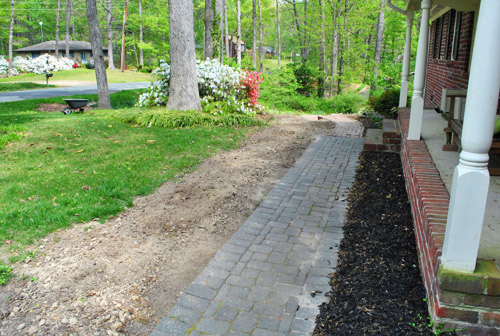dirt: (4, 220, 201, 330), (321, 143, 423, 334), (129, 181, 260, 221), (198, 137, 297, 177)
grass: (0, 112, 108, 234), (111, 112, 180, 204)
tree: (165, 0, 200, 113), (87, 5, 109, 108)
